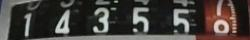digits: (206, 1, 230, 37), (22, 1, 41, 38), (170, 6, 190, 40), (92, 7, 110, 32), (132, 6, 149, 32), (54, 9, 70, 33)
